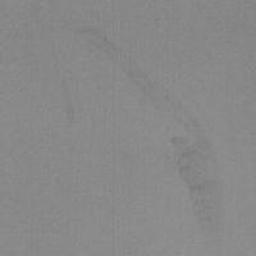Water spot: (56, 15, 237, 256)
